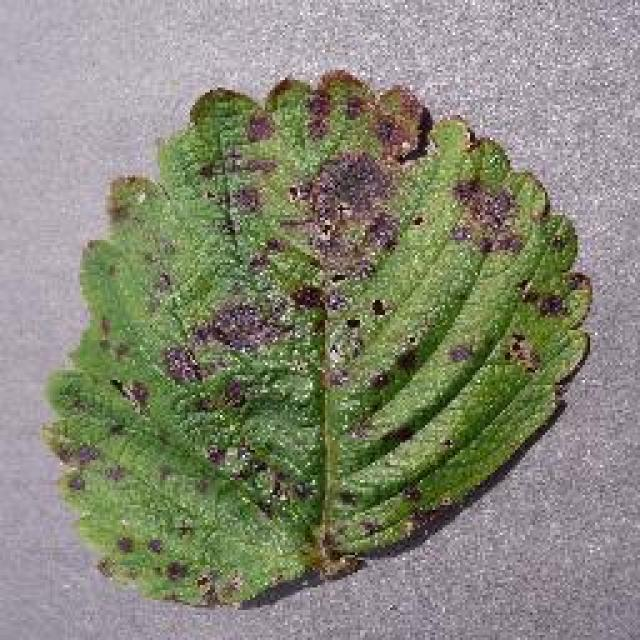Strawberry___Leaf_scorch: (27, 45, 605, 633)
